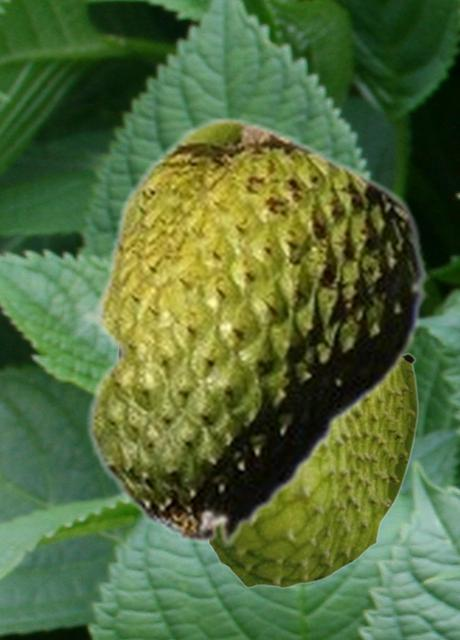guyabano: (81, 115, 428, 550), (210, 352, 418, 588)
